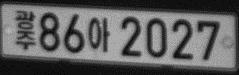0: (145, 17, 167, 58)
2: (171, 18, 193, 60), (120, 16, 141, 57)
6: (63, 13, 84, 53)
7: (196, 19, 220, 61)
8: (39, 11, 60, 51)
광주_V: (15, 10, 36, 50)
아: (87, 16, 110, 53)
